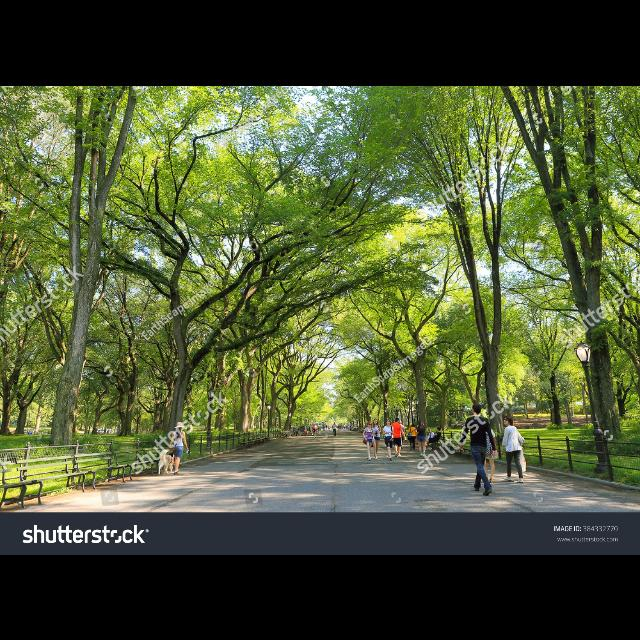head: (472, 403, 482, 415), (504, 414, 514, 426), (482, 422, 490, 430), (177, 423, 183, 431), (373, 418, 379, 426), (386, 419, 392, 425), (368, 422, 372, 428), (396, 418, 400, 424), (420, 420, 424, 426), (398, 420, 402, 424), (437, 428, 441, 432), (430, 429, 432, 433), (314, 424, 316, 426), (334, 422, 336, 424), (412, 424, 414, 426)
person: (458, 402, 499, 496), (499, 414, 527, 484), (476, 416, 498, 484), (168, 420, 190, 476), (389, 418, 407, 458), (360, 420, 376, 460), (382, 418, 394, 462), (370, 418, 382, 460), (416, 419, 428, 458), (426, 426, 442, 450), (394, 418, 406, 449), (406, 422, 418, 452), (420, 427, 436, 449), (312, 422, 318, 438), (332, 422, 338, 438)
